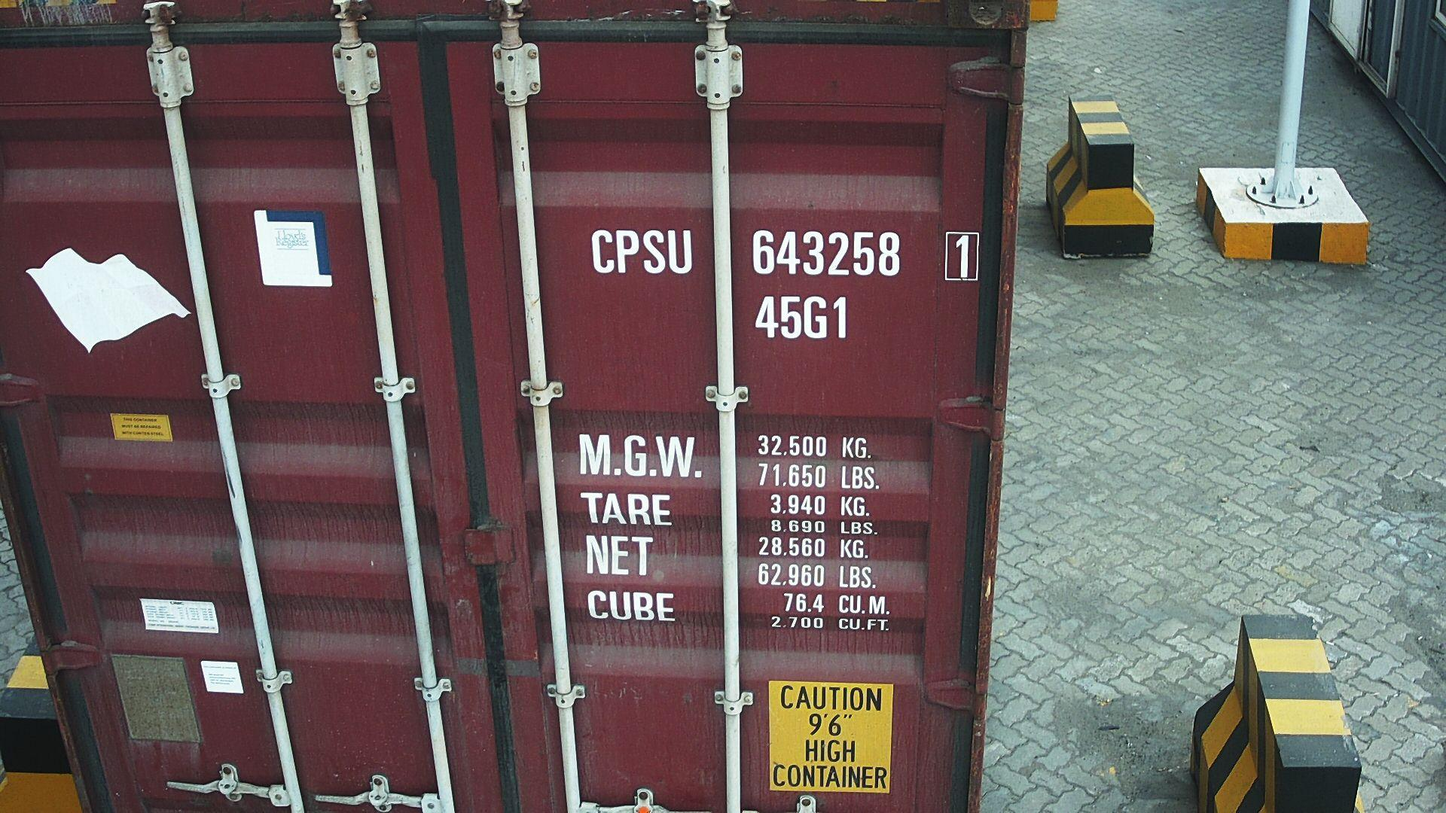container-numbers: (586, 224, 984, 286), (751, 292, 853, 343)
